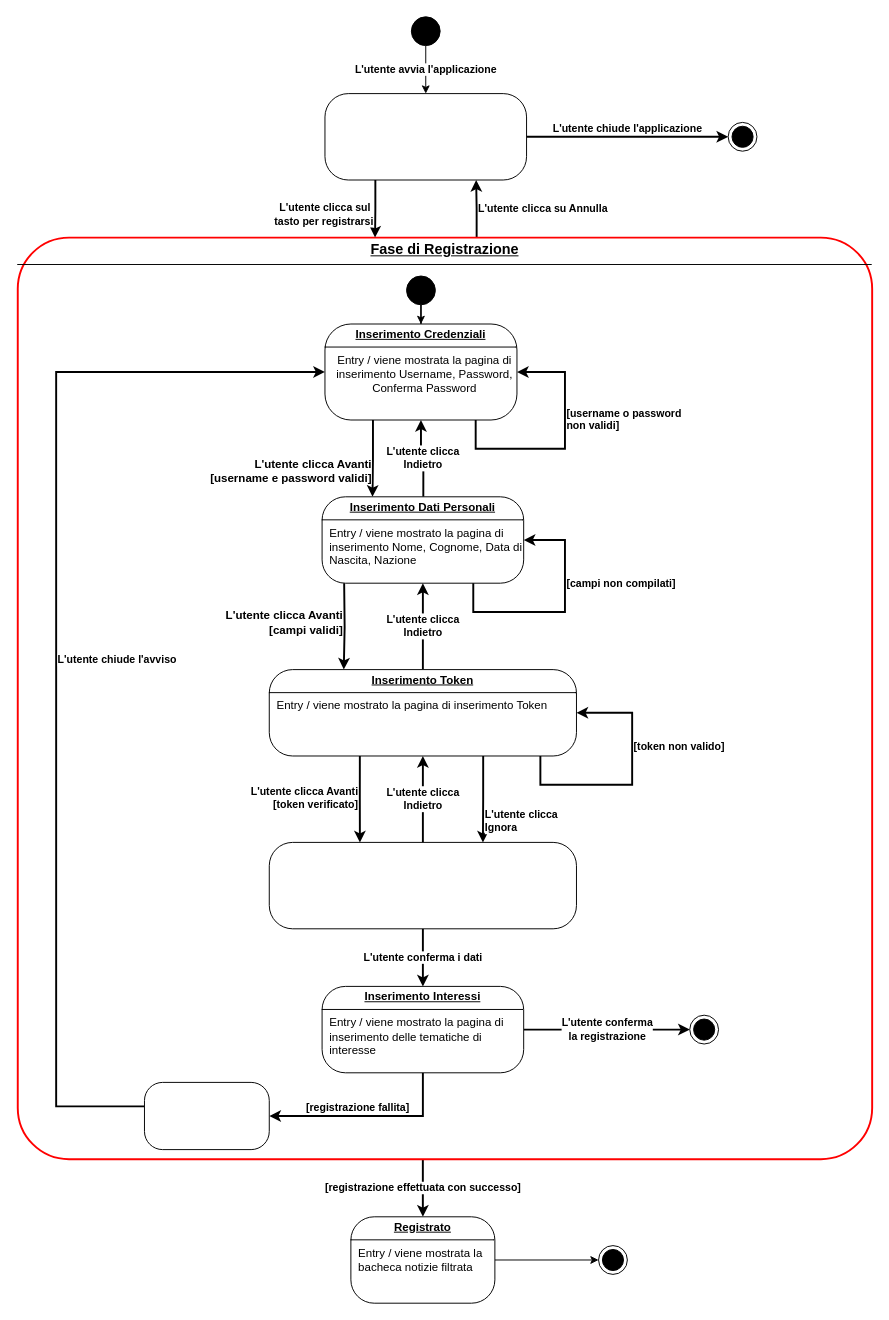
The diagram is 889 pixels wide and 1320 high, and some of its shapes have lost their labels. The centre of each missing label's shape, as x and y in pixels:
"Errore Viene mostrato l'avviso" goes at point 206,1115.
"Non Registrato Entry / viene mostrata la pagina di accesso" goes at point 425,136.
"Riepilogo Dati Entry / viene mostrato la pagina di riepilogo dei dati inseriti" goes at point 422,885.
